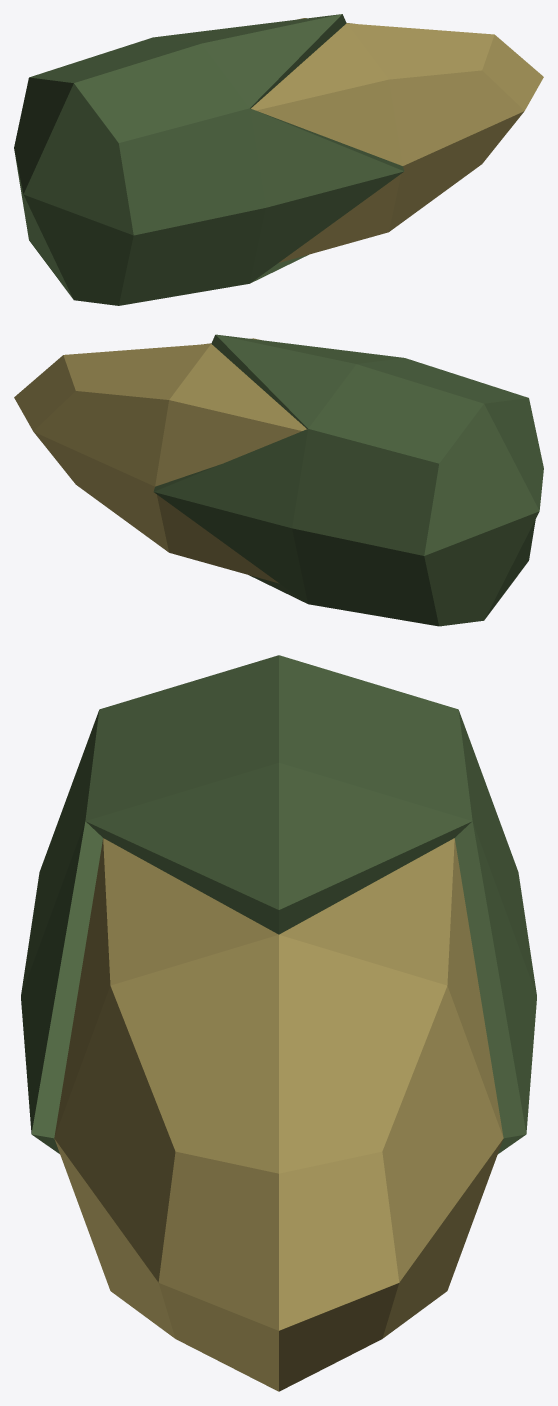
Rendered from Corn_Crop.glb.
3 views of the same model, one above another, from view 1: azimuth 30°, elevation 25°; view 2: azimuth 150°, elevation 25°; view 3: azimuth 270°, elevation 25° (orthographic). The views are drawn at different scales.
Visible parts, largest first — view 1: DarkGreen2, Yellow; view 2: DarkGreen2, Yellow; view 3: Yellow, DarkGreen2.
Part boxes in pixels (x1,y1,x2,y2): DarkGreen2: [14, 14, 404, 305]; Yellow: [251, 18, 543, 262]; DarkGreen2: [153, 334, 543, 626]; Yellow: [14, 338, 306, 583]; Yellow: [54, 838, 503, 1391]; DarkGreen2: [21, 655, 536, 1153].
Bounding box in the file's own units: 0.3482 × 0.1488 × 0.1488.
